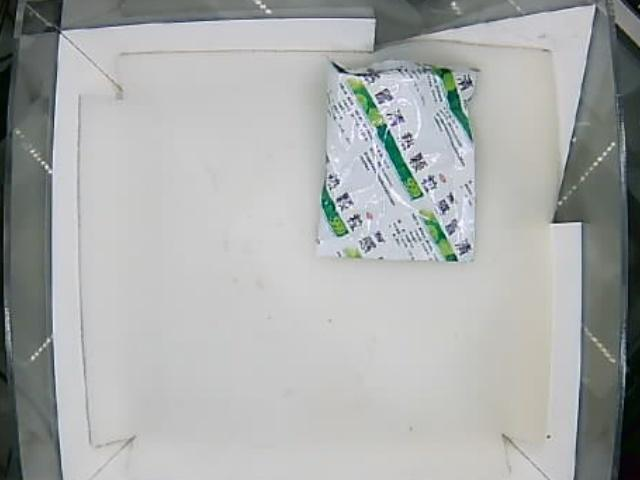Medicine: (319, 57, 480, 264)
